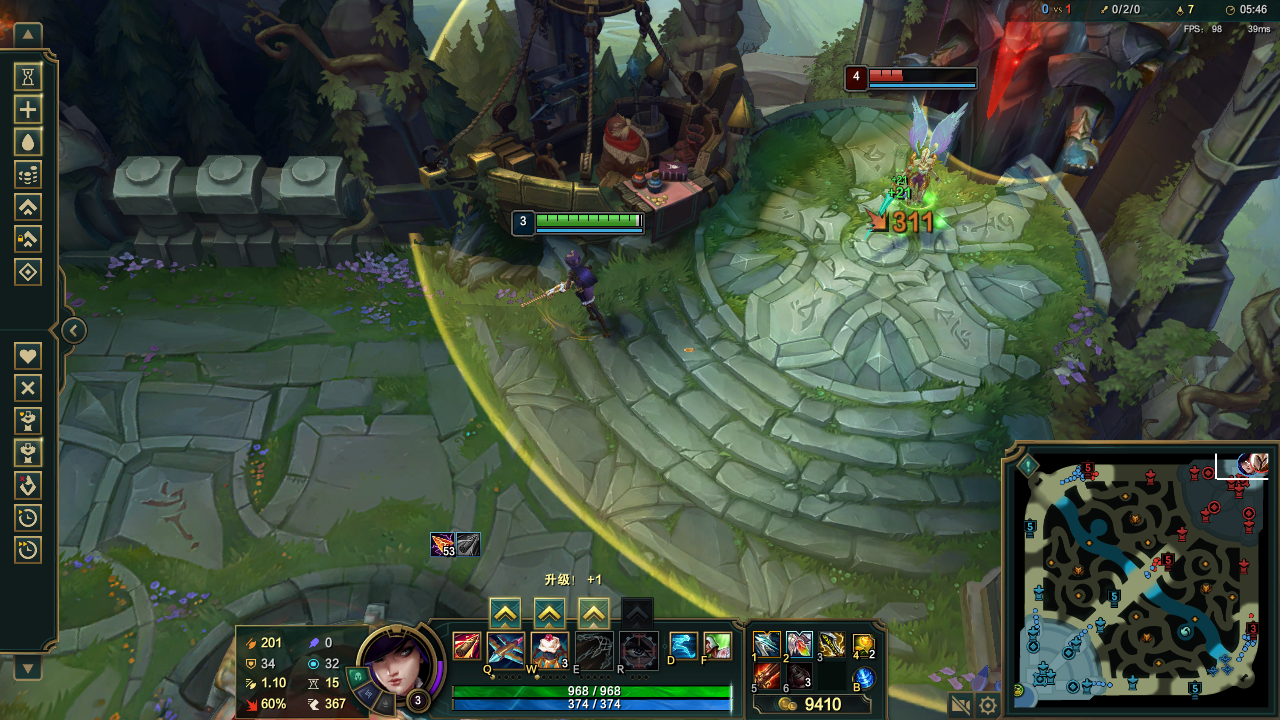DFYX: (863, 65, 979, 83)
